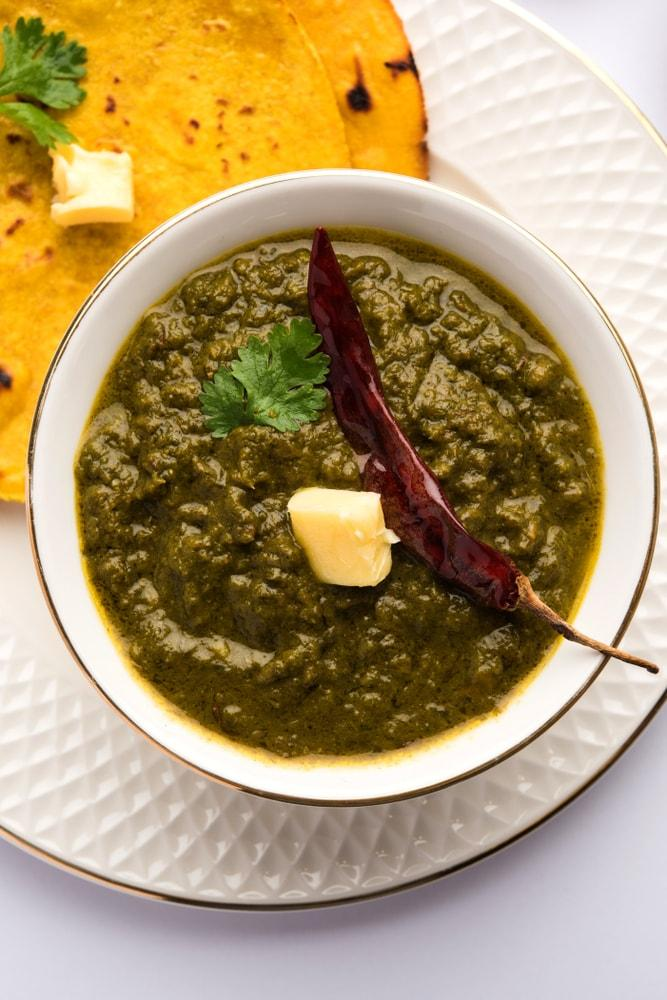saag: (76, 230, 585, 757)
